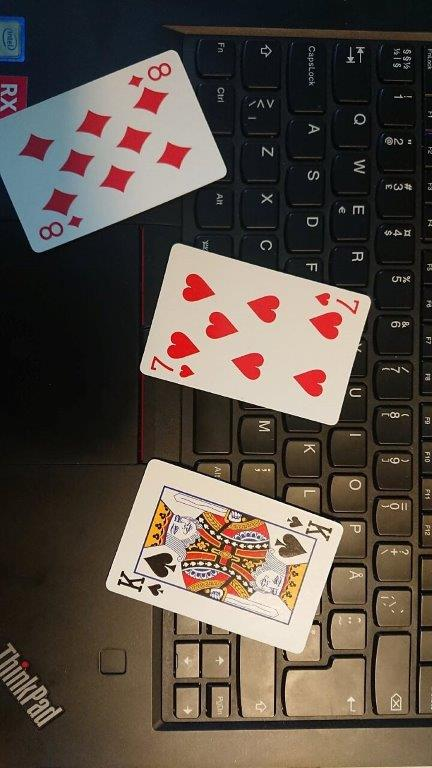7H: (145, 353, 197, 380)
8D: (124, 57, 174, 88)
KS: (110, 566, 167, 602)
